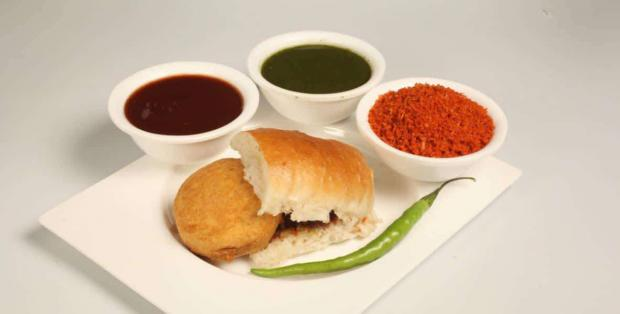vada pav: (239, 137, 325, 259)
